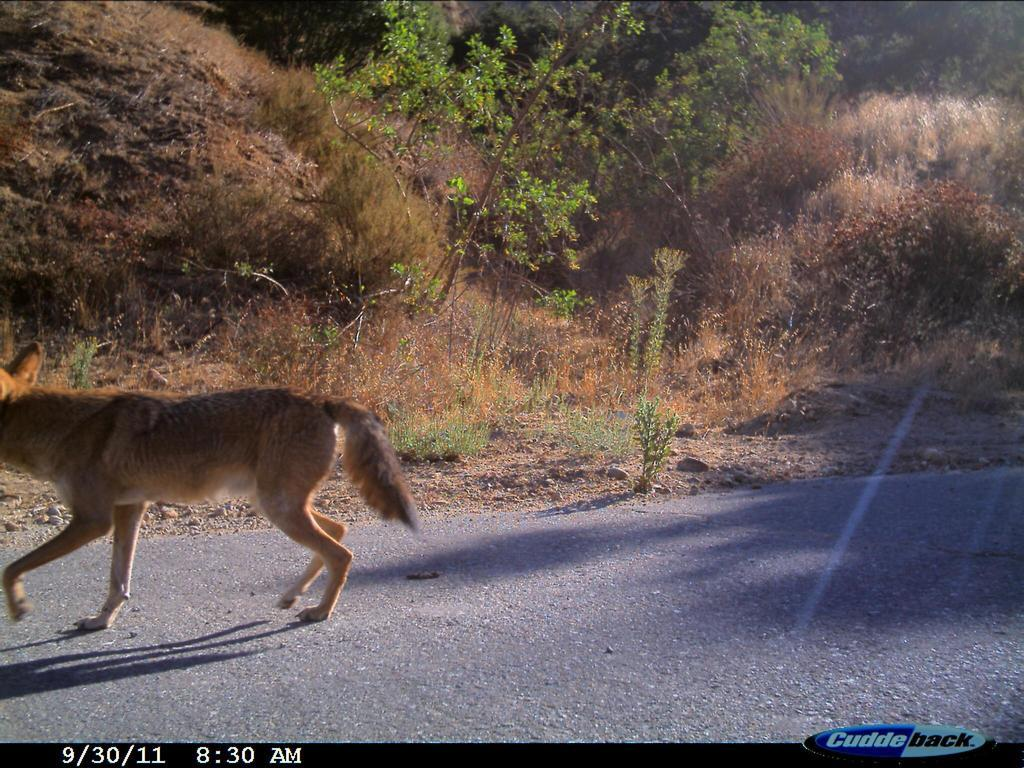coyote: (7, 331, 428, 658)
